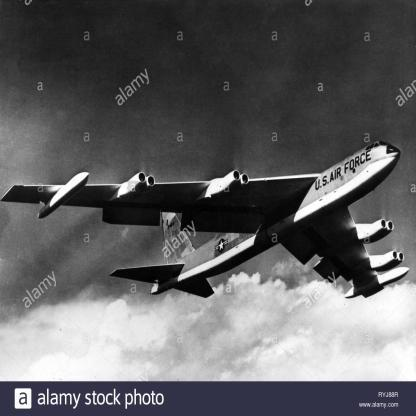CIV_Plane: (3, 136, 414, 301)
